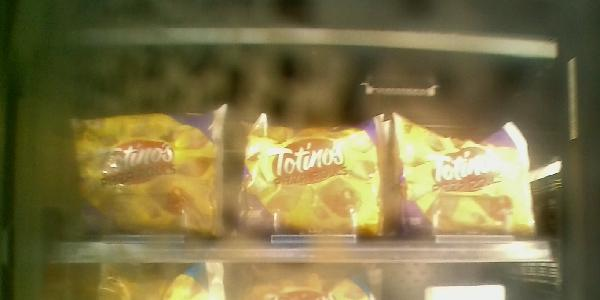icecream: (392, 105, 539, 244), (67, 111, 228, 237), (241, 112, 389, 242)
